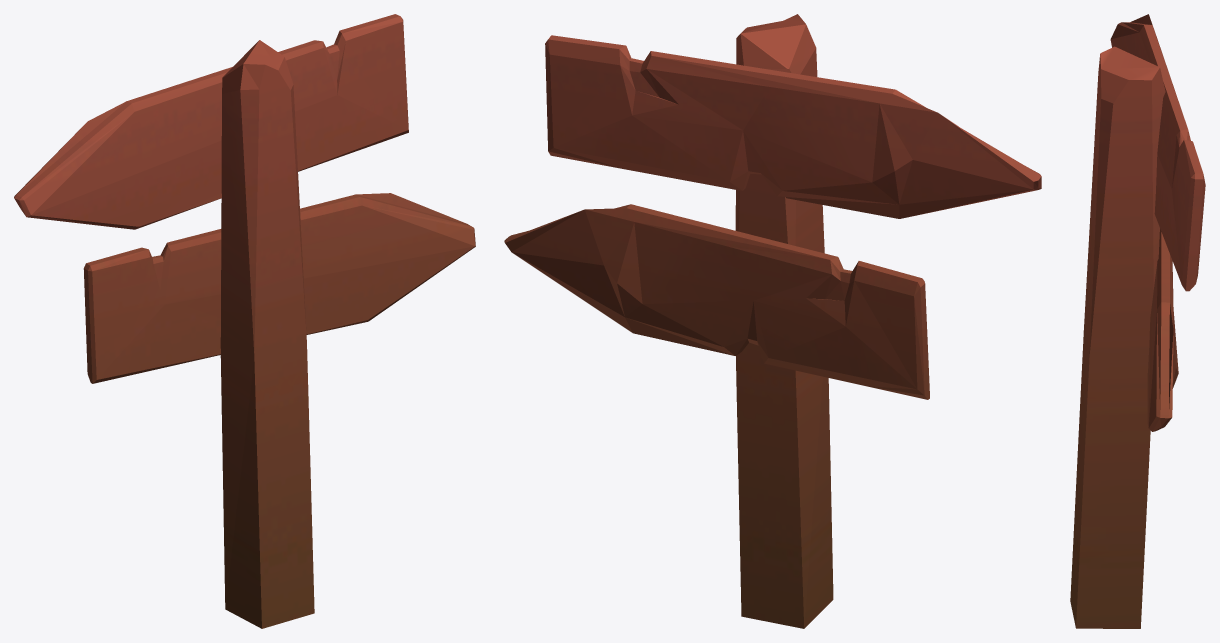
3 views of the same model, side by side, from view 1: azimuth 30°, elevation 25°; view 2: azimuth 150°, elevation 25°; view 3: azimuth 270°, elevation 25° (orthographic). The views are drawn at different scales.
Visible parts, largest first — view 1: Signpost1; view 2: Signpost1; view 3: Signpost1.
Part boxes in pixels (bbox=[...]): Signpost1: bbox=[14, 14, 475, 628]; Signpost1: bbox=[504, 14, 1041, 628]; Signpost1: bbox=[1070, 14, 1205, 628].
Bounding box in the file's own units: 1.55 × 1.72 × 0.376.
Materials: 1 (1 with a texture image).
